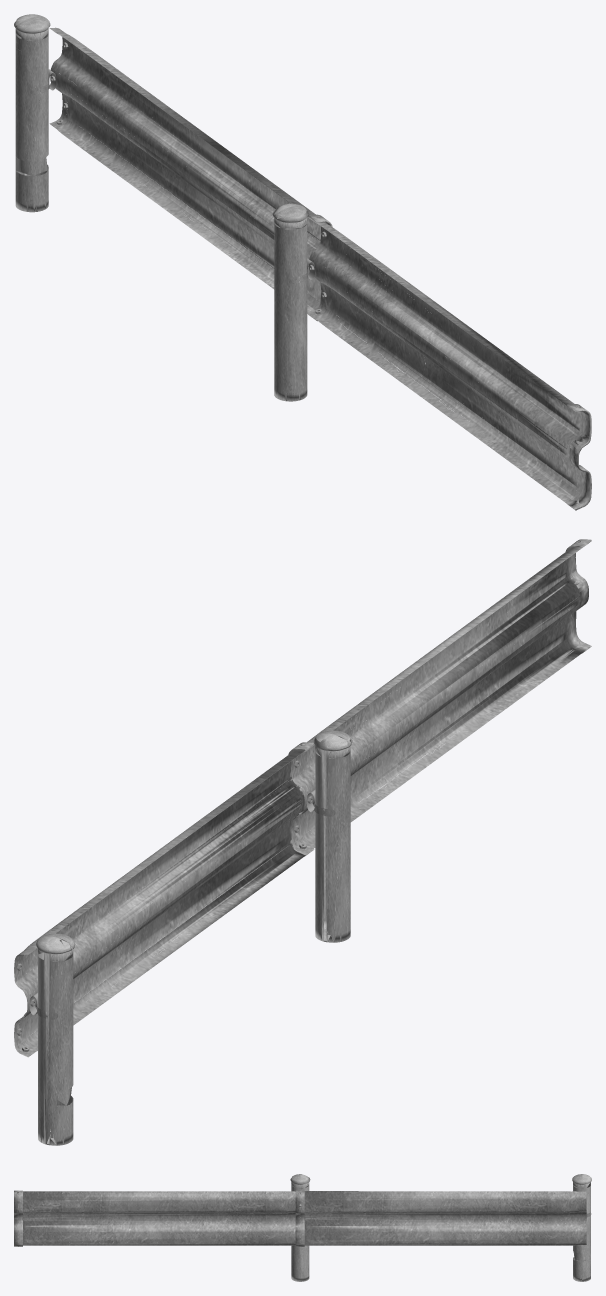
The model's file is protezione-stradale.glb.
3 renders of one model, top to bottom at view 1: azimuth 30°, elevation 25°; view 2: azimuth 150°, elevation 25°; view 3: azimuth 270°, elevation 25°, orthographic. The views are drawn at different scales.
Parts seen in each view (by area): view 1: roadside guard_0; view 2: roadside guard_0; view 3: roadside guard_0.
Boxes of the visible parts, x1,y1,x2,y2 form: roadside guard_0: (14,14,591,510); roadside guard_0: (14,539,591,1145); roadside guard_0: (14,1174,591,1281).
Size of the model in its own units: 0.4614 by 1.51 by 7.73.
Materials: 2 (2 with a texture image).
